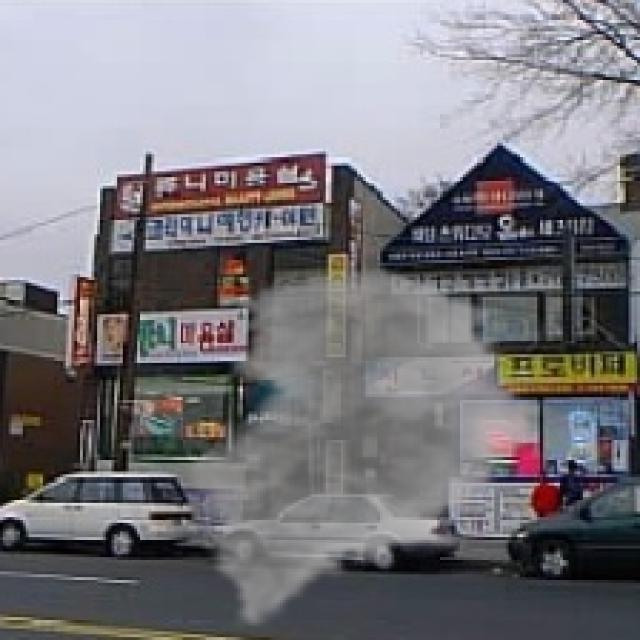Smoke: (177, 263, 552, 632)
